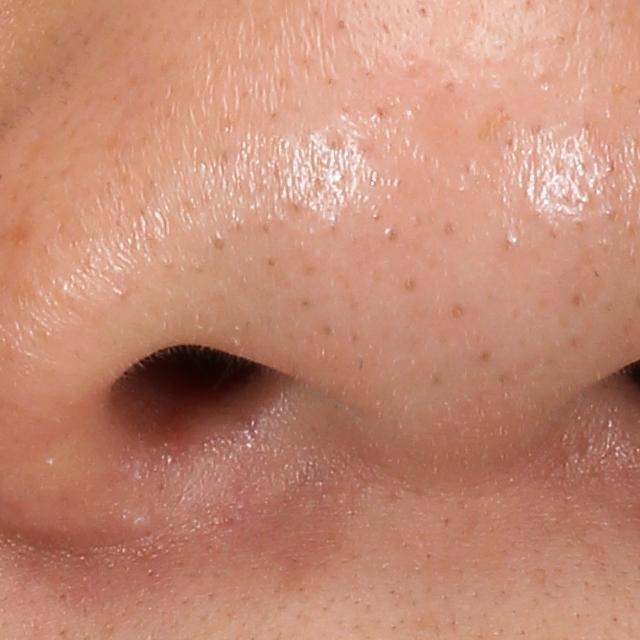comedo: (332, 15, 353, 33)
